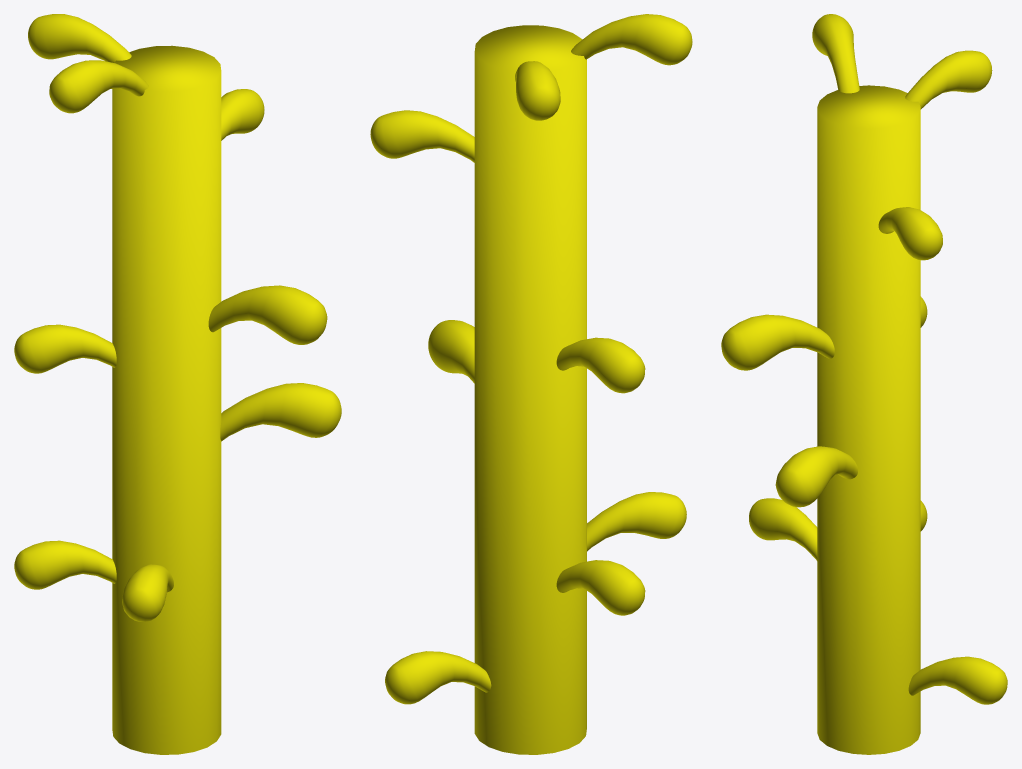
Rendered from l_drzewo_duze_3.fbx.
The picture shows the model from 3 angles, left to right: view 1: azimuth 30°, elevation 25°; view 2: azimuth 150°, elevation 25°; view 3: azimuth 270°, elevation 25°; orthographic projection. The views are drawn at different scales.
Parts seen in each view (by area): view 1: drzewo_duze; view 2: drzewo_duze; view 3: drzewo_duze.
Part boxes in pixels (left/top/right/bottom): drzewo_duze: left=14, top=14, right=341, bottom=754; drzewo_duze: left=370, top=14, right=692, bottom=754; drzewo_duze: left=721, top=14, right=1007, bottom=754.
Bounding box in the file's own units: 504 × 1265 × 493.
